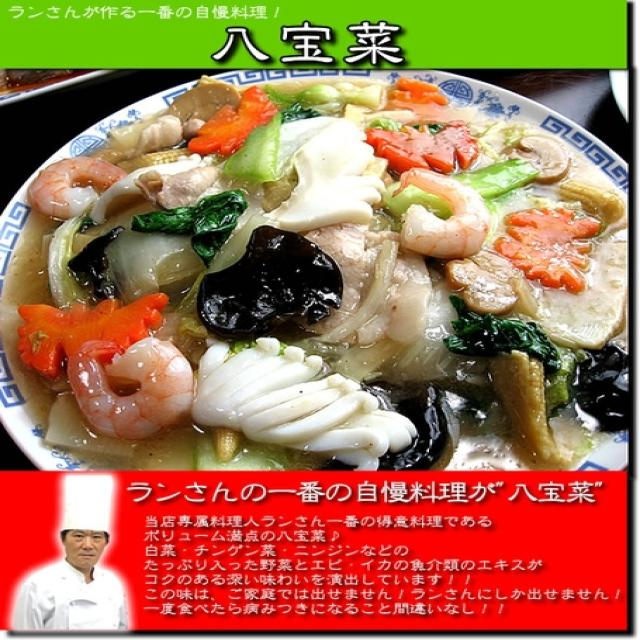面条主食: (13, 2, 612, 640)
